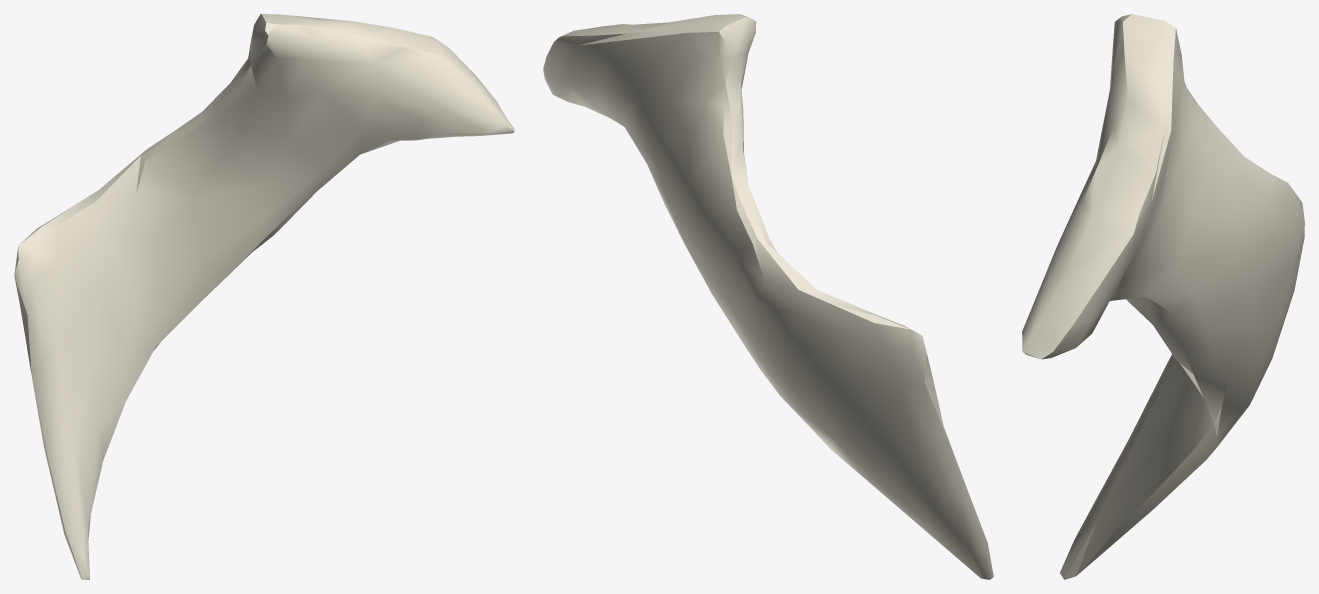
Rendered from fma326295-r_mm1624m.glb.
3 renders of one model, left to right at view 1: azimuth 30°, elevation 25°; view 2: azimuth 150°, elevation 25°; view 3: azimuth 270°, elevation 25°, orthographic. The views are drawn at different scales.
Visible parts, largest first — view 1: FMA326295-R_MM1624M; view 2: FMA326295-R_MM1624M; view 3: FMA326295-R_MM1624M.
Boxes of the visible parts, x1,y1,x2,y2 form: FMA326295-R_MM1624M: (14,14,514,579); FMA326295-R_MM1624M: (543,14,993,579); FMA326295-R_MM1624M: (1022,14,1304,579).
Bounding box in the file's own units: 0.0474 × 0.0518 × 0.0188.
